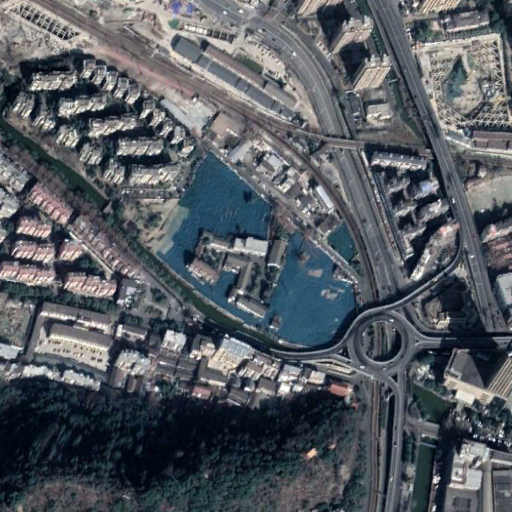cw: (151, 149, 361, 357)
